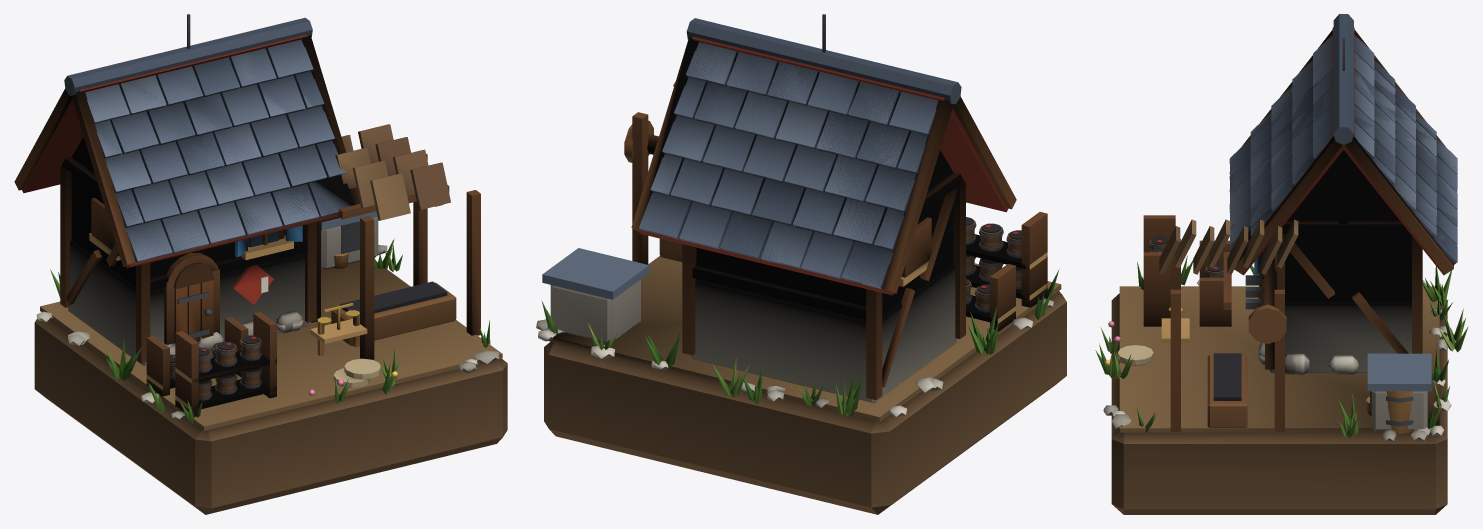
File: powdermill.glb
3 views of the same model, side by side, from view 1: azimuth 30°, elevation 25°; view 2: azimuth 150°, elevation 25°; view 3: azimuth 270°, elevation 25° (orthographic). The views are drawn at different scales.
Parts seen in each view (by area): view 1: powdermill_l1, powdermill_l2, powdermill_l3; view 2: powdermill_l1, powdermill_l2, powdermill_l3; view 3: powdermill_l1, powdermill_l2, powdermill_l3.
Part boxes in pixels (bbox=[...]): powdermill_l1: bbox=[14, 17, 507, 514]; powdermill_l2: bbox=[36, 39, 499, 403]; powdermill_l3: bbox=[68, 14, 476, 413]; powdermill_l1: bbox=[536, 18, 1066, 514]; powdermill_l2: bbox=[541, 52, 1032, 418]; powdermill_l3: bbox=[542, 14, 1052, 416]; powdermill_l1: bbox=[1105, 14, 1468, 514]; powdermill_l2: bbox=[1100, 36, 1457, 435]; powdermill_l3: bbox=[1095, 37, 1457, 440].
Size of the model in its own units: 0.9644 by 1.06 by 0.9335.
